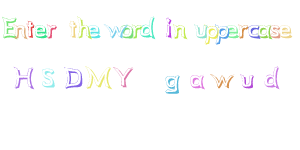D: (62, 66, 84, 89)
E: (1, 14, 18, 40)
H: (12, 65, 35, 90)
M: (85, 66, 113, 89)
S: (40, 67, 57, 88)
Y: (114, 67, 134, 89)
a: (189, 72, 205, 90), (258, 23, 270, 39)
c: (247, 23, 260, 38)
d: (263, 64, 281, 89), (140, 15, 156, 40)
e: (34, 23, 47, 39), (225, 22, 238, 38), (88, 23, 101, 38), (279, 24, 292, 39)
g: (164, 73, 180, 95)
h: (77, 15, 90, 39)
i: (164, 16, 173, 39)
n: (173, 23, 188, 40), (13, 24, 27, 40)
o: (120, 24, 134, 39)
p: (214, 23, 230, 46), (205, 23, 219, 46)
r: (45, 21, 59, 38), (130, 23, 142, 39), (237, 23, 249, 39)
s: (269, 23, 281, 39)
t: (26, 18, 36, 39), (67, 19, 78, 38)
u: (239, 72, 255, 89), (193, 22, 208, 38)
w: (210, 72, 234, 90), (104, 23, 124, 38)
